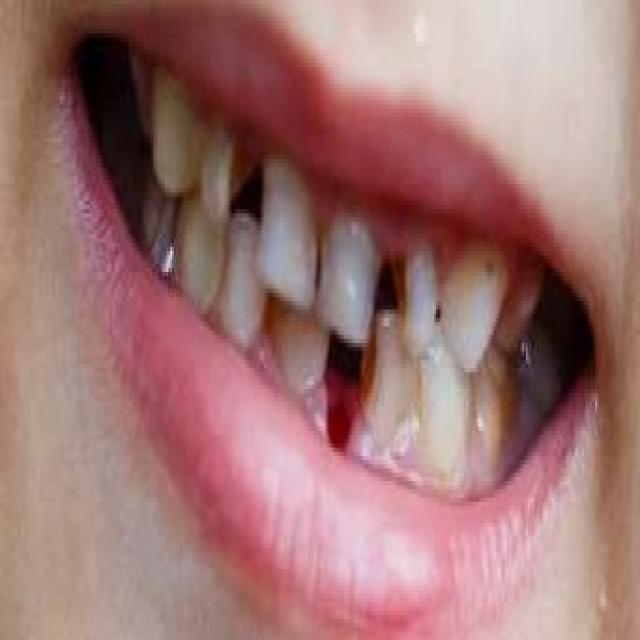caries: (216, 122, 266, 224), (357, 320, 389, 418), (384, 238, 418, 324)
